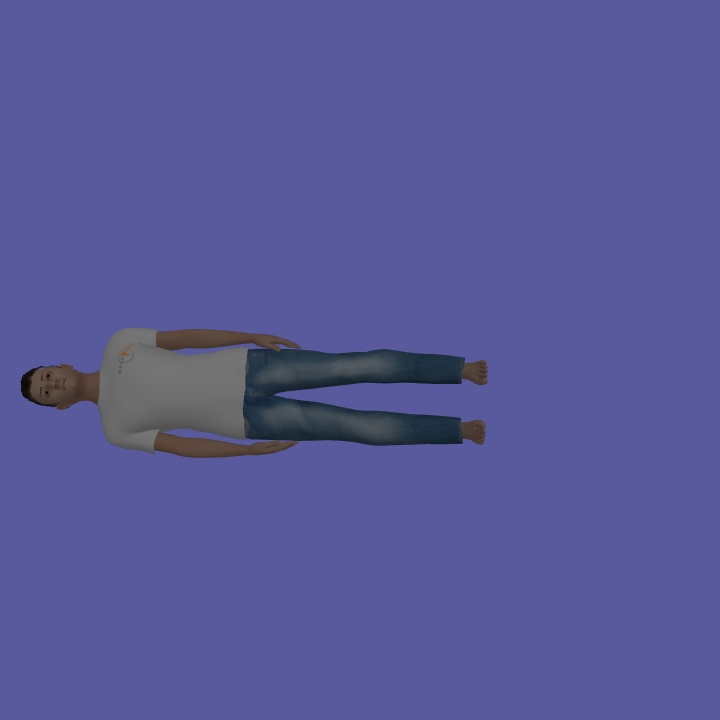victim: (17, 318, 490, 461)
